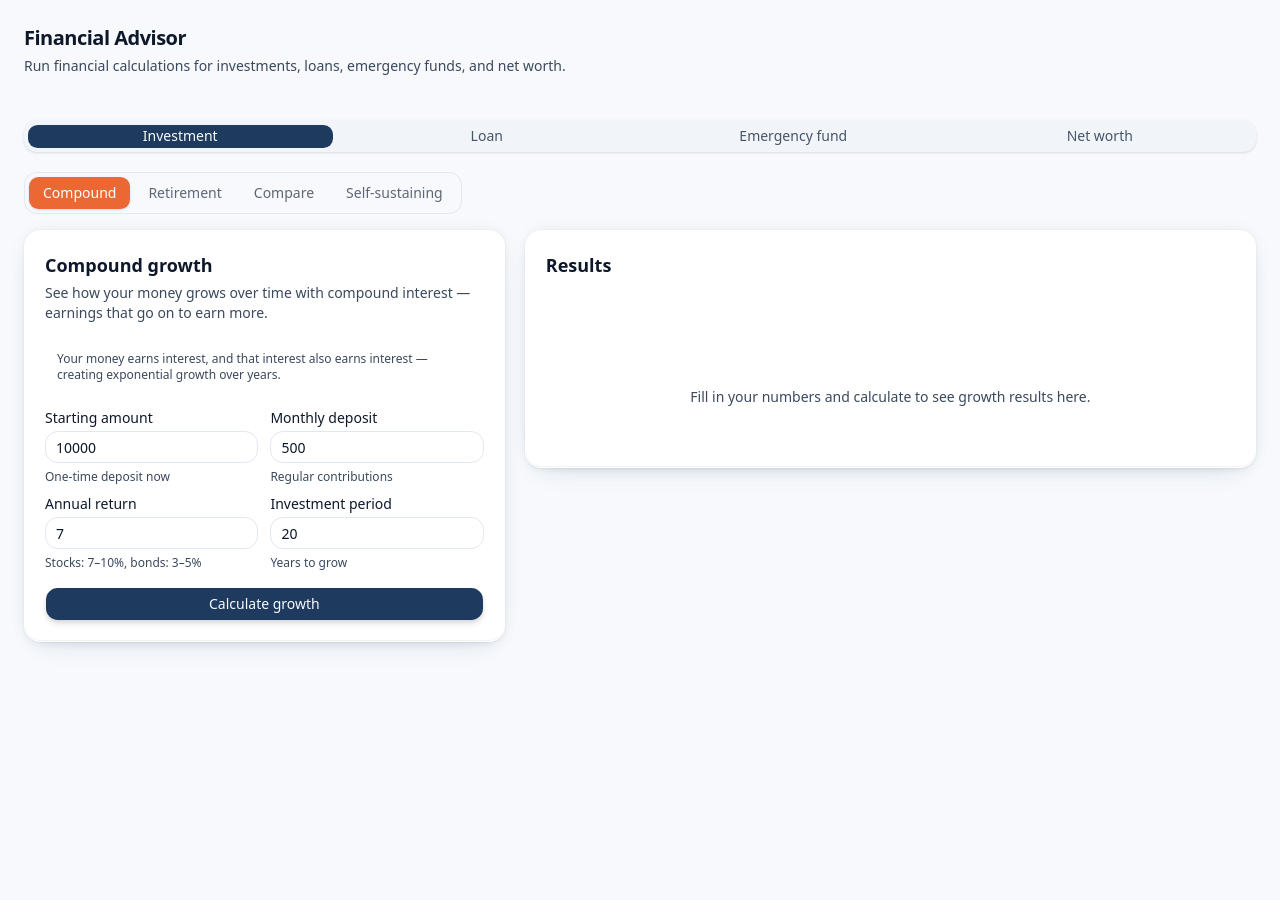
it: AdvisorPage › shows the emergency fund recommendation once requested
Click the tab "Emergency fund". click: (793, 136)
box: [641, 124, 946, 148]
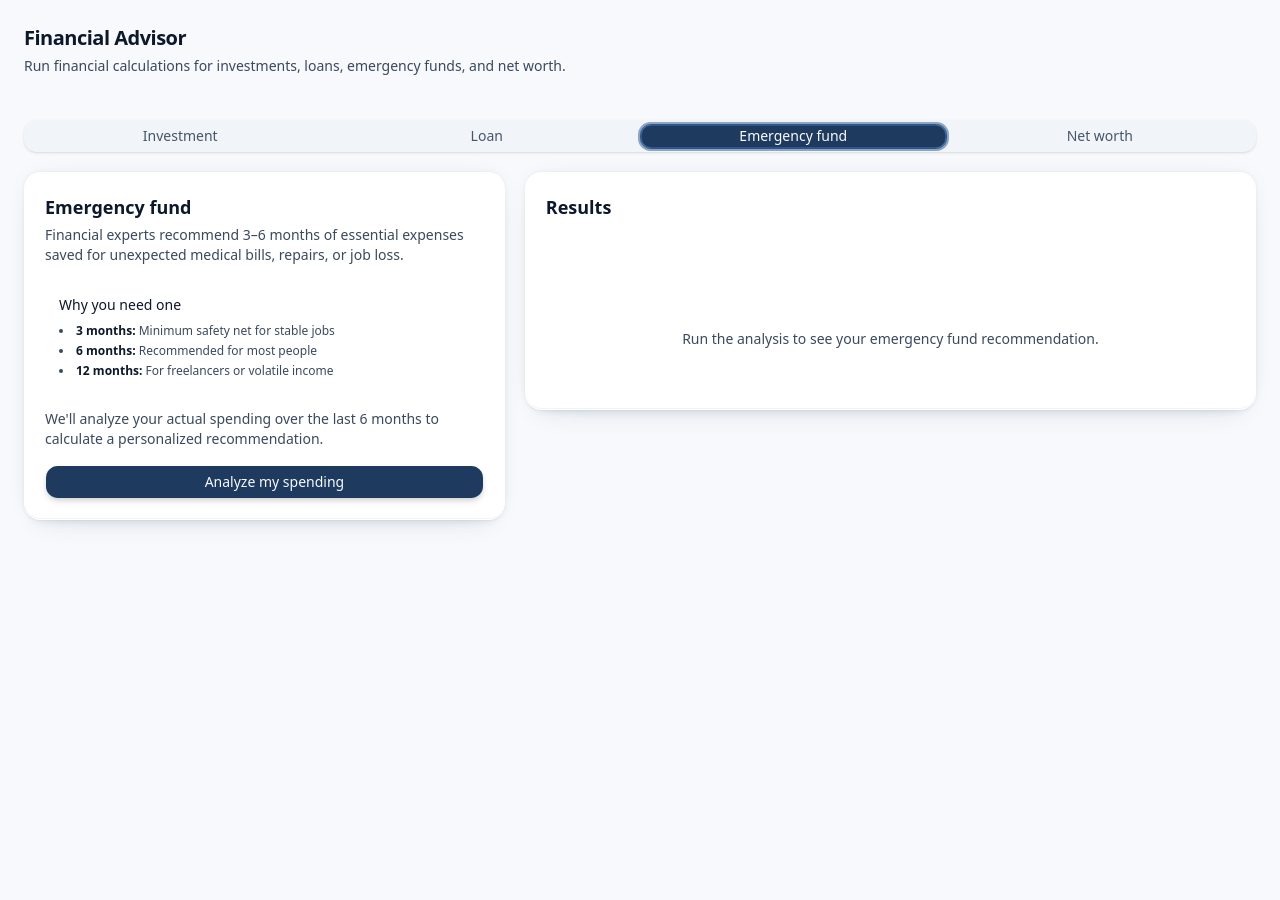
Click the button "Analyze my spending". click: (264, 482)
box: [45, 465, 484, 499]
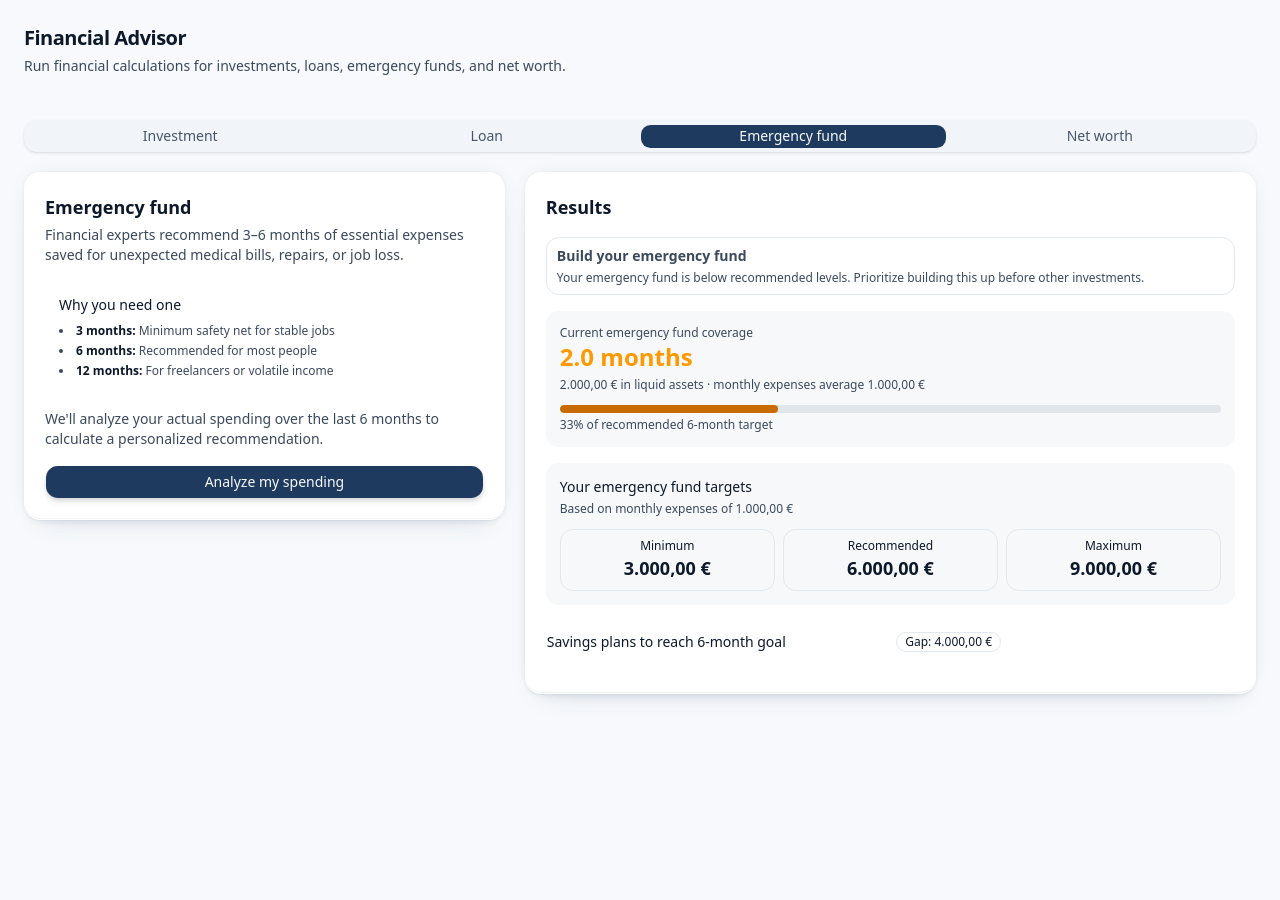
expect the text "Build your emergency fund" is shown: met, box [557, 246, 747, 265]
